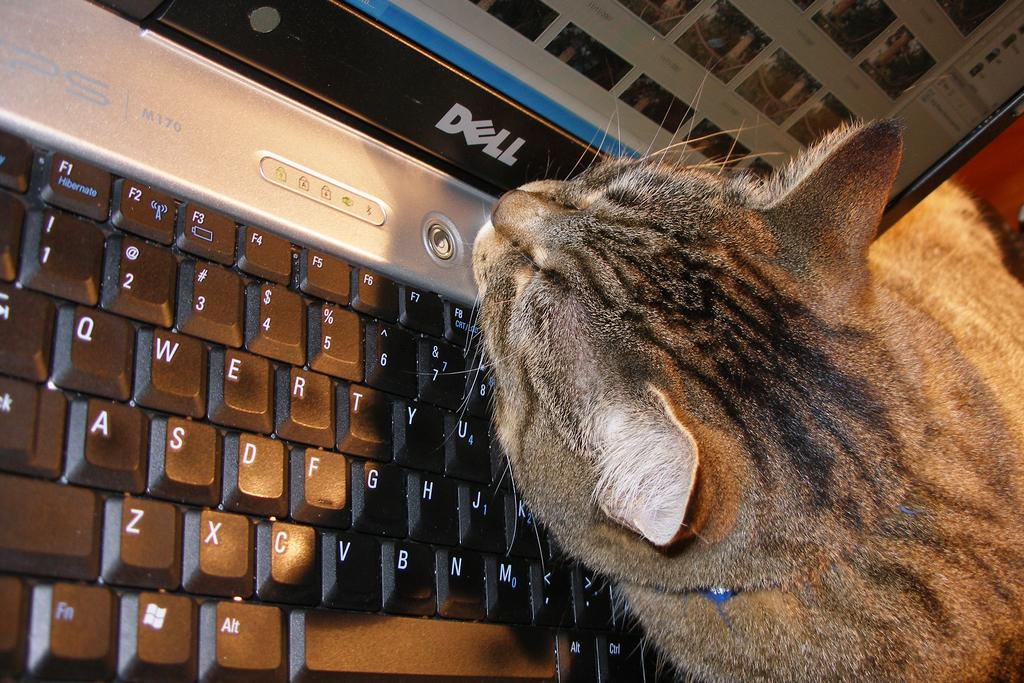Computer-keyboard: (0, 126, 705, 682)
Laptop: (0, 0, 1023, 682)
